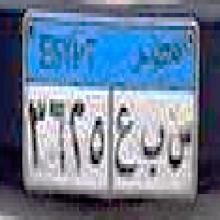2: (69, 94, 86, 181)
3: (28, 90, 47, 180)
5: (88, 110, 106, 176)
6: (46, 90, 66, 178)
ain: (111, 98, 138, 180)
baa: (140, 111, 165, 182)
seen: (166, 112, 192, 178)
